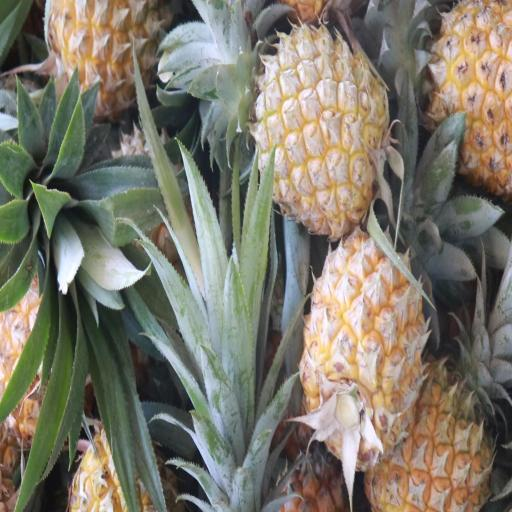------------------------------: (44, 2, 164, 117)
Pineapple - v8 v1: (301, 234, 419, 465), (254, 32, 387, 236), (366, 351, 495, 512), (405, 3, 512, 189)
